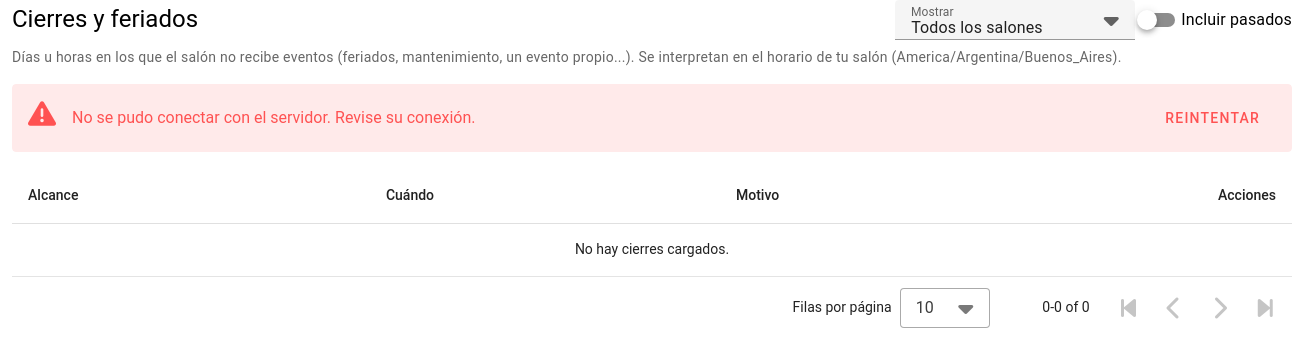
Test case: BloqueosView › listado › si falla la carga muestra el error y permite reintentar
Click the button "Reintentar" at (1212, 118), box [1148, 100, 1276, 136]
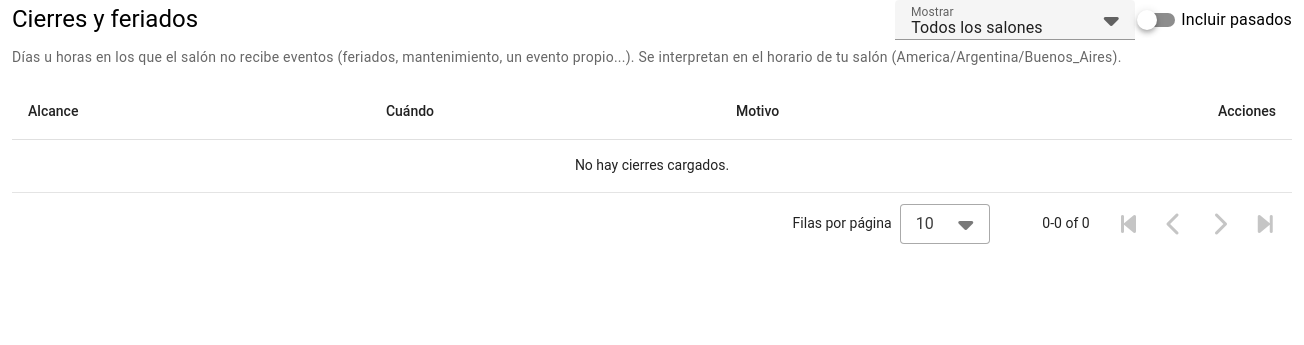
Now the text "No se pudo conectar" is gone
